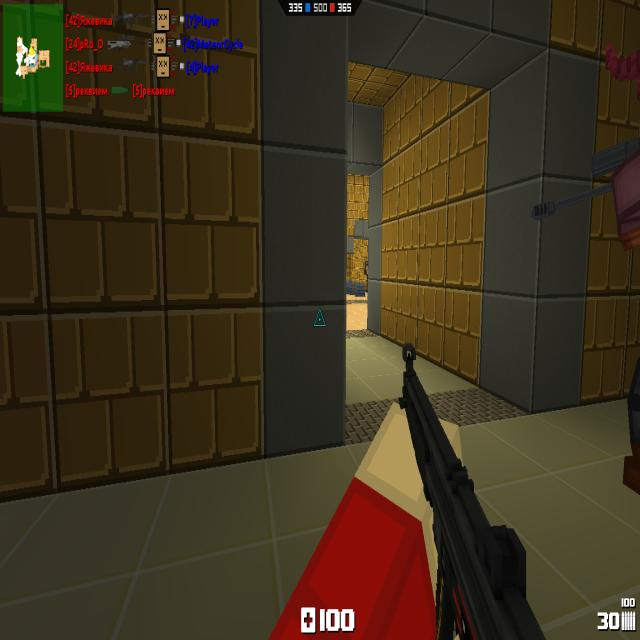enemy: (365, 260, 368, 292)
